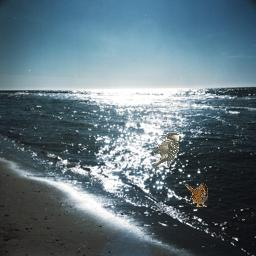Sparrow: (184, 183, 208, 208)
Woodpecker: (151, 132, 179, 168)
